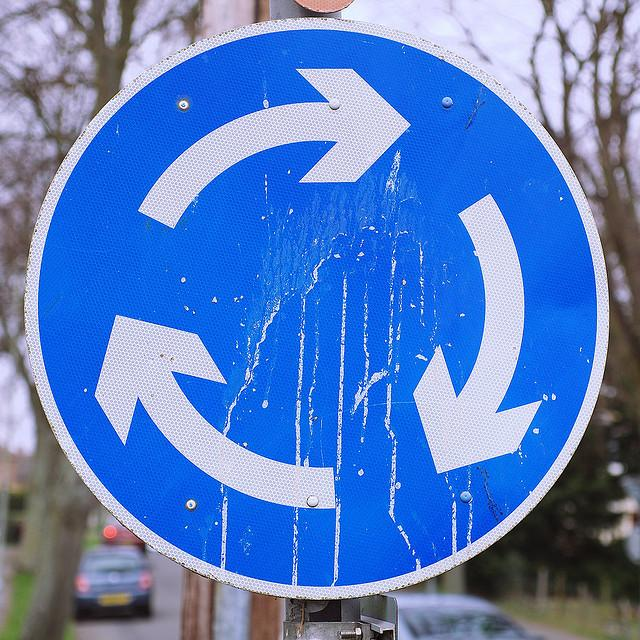Vehicle: (394, 592, 564, 632), (71, 541, 154, 620)
